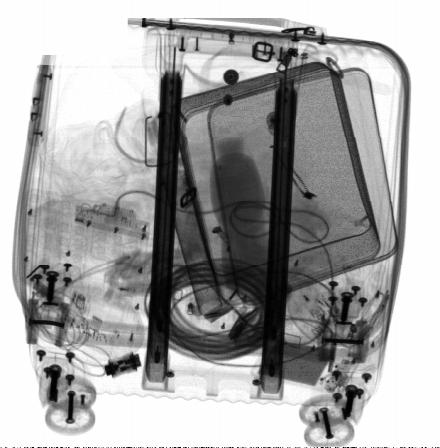Powerbank: (253, 338, 352, 397)
